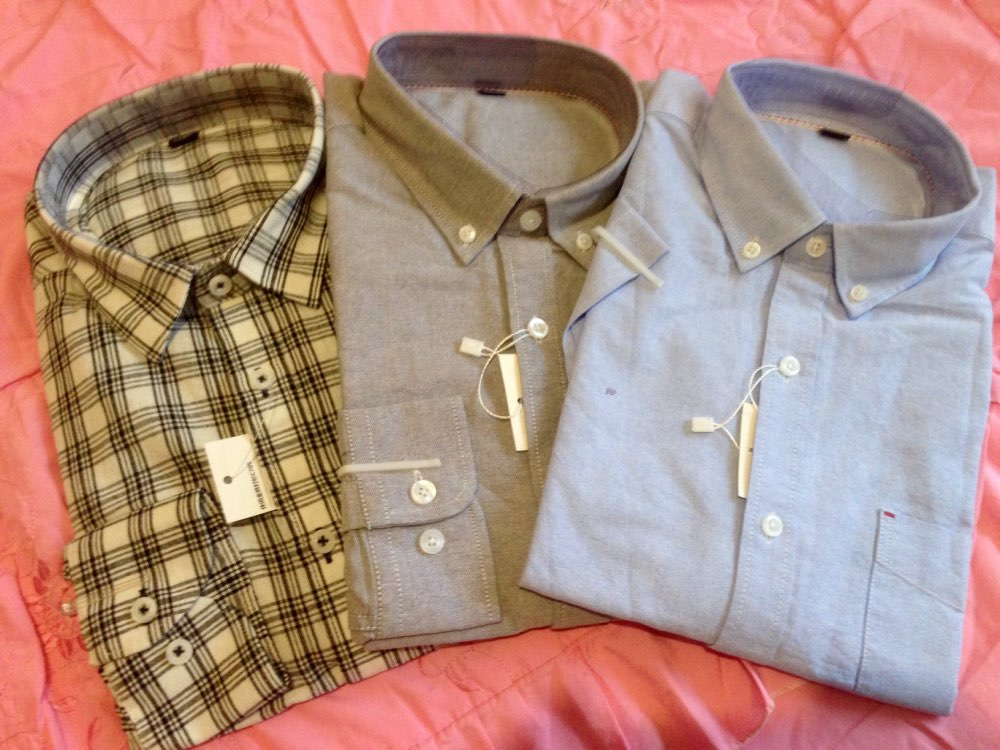shirts: (559, 67, 1000, 720), (29, 66, 452, 741), (308, 35, 692, 651)
